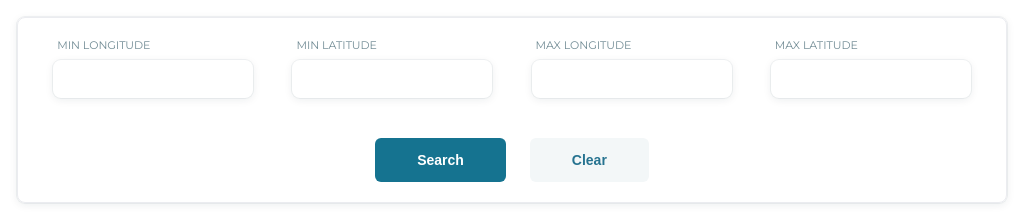
Scenario: should display required value when value is invalid
The width and height of the screenshot is (1024, 221).
Step 1. Click the button "Search" → x=440, y=160, box [375,138,506,182]
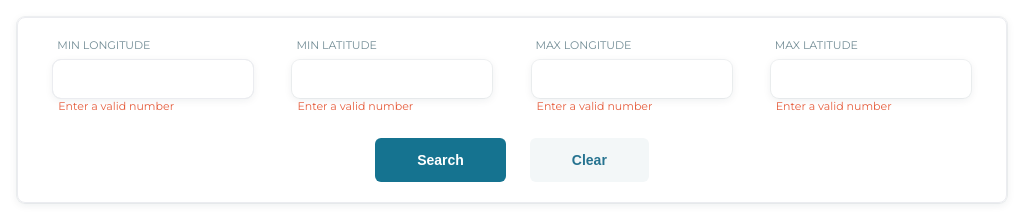
Expected: the text "Enter a valid number" is shown 4 times, [58,99,174,113]; [297,99,413,113]; [537,99,652,113]; [776,99,892,113]
